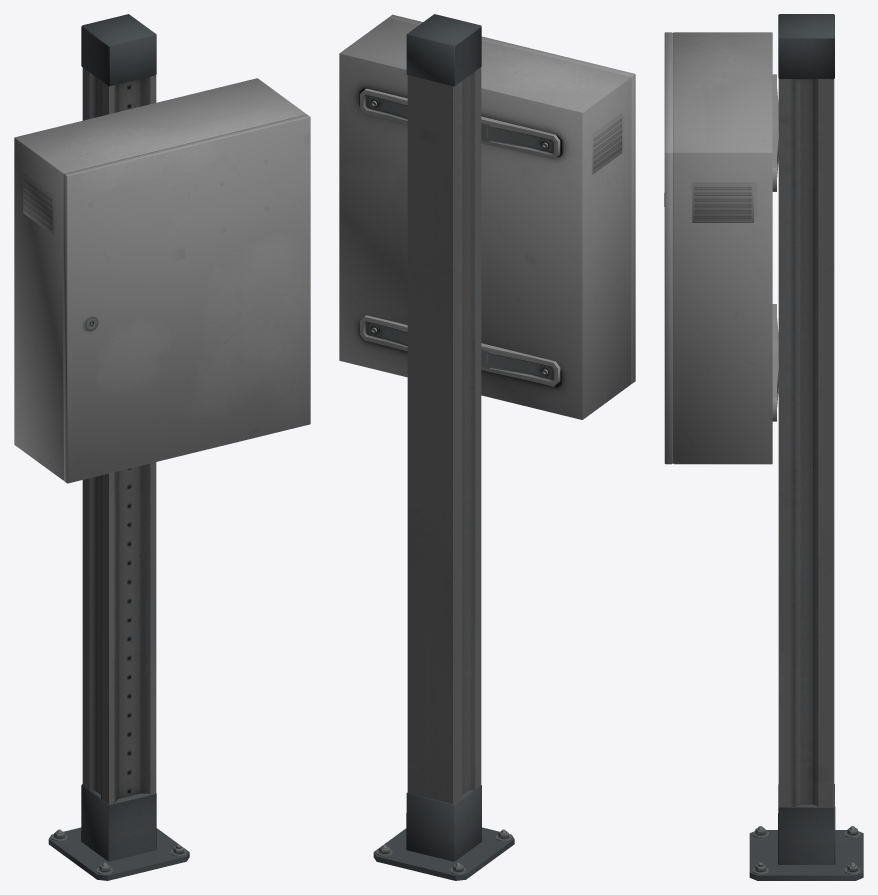
File: Control box.FBX
The picture shows the model from 3 angles, left to right: view 1: azimuth 30°, elevation 25°; view 2: azimuth 150°, elevation 25°; view 3: azimuth 270°, elevation 25°; orthographic projection.
Visible parts, largest first — view 1: Control_box, Control_box_post; view 2: Control_box, Control_box_post; view 3: Control_box_post, Control_box.
Part boxes in pixels (x1,y1,x2,y2): Control_box: [14, 78, 310, 483]; Control_box_post: [48, 14, 189, 880]; Control_box: [339, 14, 635, 419]; Control_box_post: [373, 14, 514, 880]; Control_box_post: [749, 14, 863, 880]; Control_box: [664, 32, 778, 464].
Bounding box in the file's own units: 0.6241 × 2 × 0.4336.
Materials: 1 (1 with a texture image).
